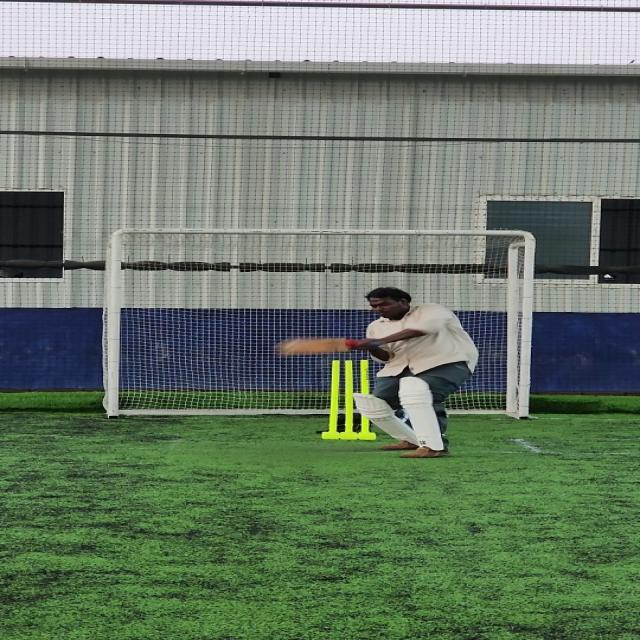ball: (341, 337, 364, 350)
stump: (324, 356, 376, 442)
